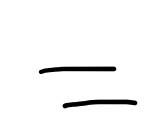eqv: (34, 60, 141, 109)
